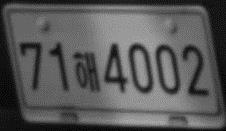0: (154, 44, 182, 94), (127, 42, 154, 93)
1: (43, 40, 72, 92)
2: (182, 43, 209, 97)
4: (102, 43, 129, 93)
7: (19, 41, 43, 91)
해: (73, 49, 101, 94)
